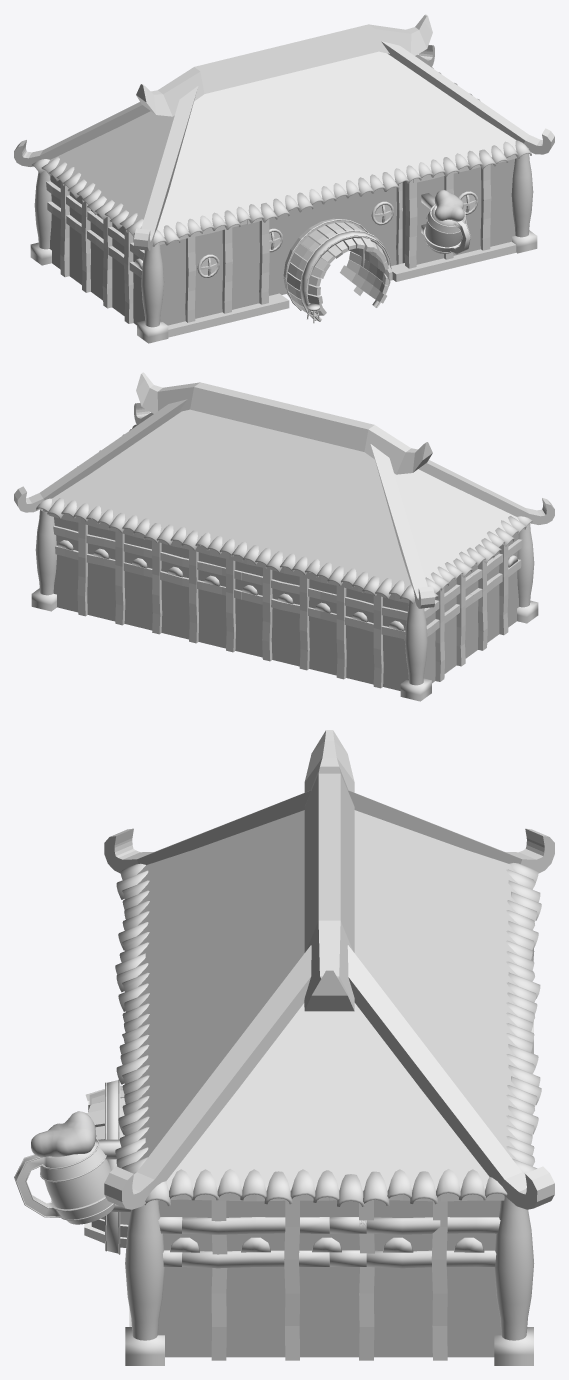
The model's file is SM_Tavern_01.fbx.
3 views of the same model, one above another, from view 1: azimuth 30°, elevation 25°; view 2: azimuth 150°, elevation 25°; view 3: azimuth 270°, elevation 25° (orthographic). The views are drawn at different scales.
Visible parts, largest first — view 1: SM_Tavern_01; view 2: SM_Tavern_01; view 3: SM_Tavern_01.
Boxes of the visible parts, box(x1,y1,x2,y2) form: SM_Tavern_01: box(14, 14, 554, 343); SM_Tavern_01: box(14, 372, 554, 701); SM_Tavern_01: box(14, 730, 554, 1365).
Bounding box in the file's own units: 2282 × 1148 × 1466.
